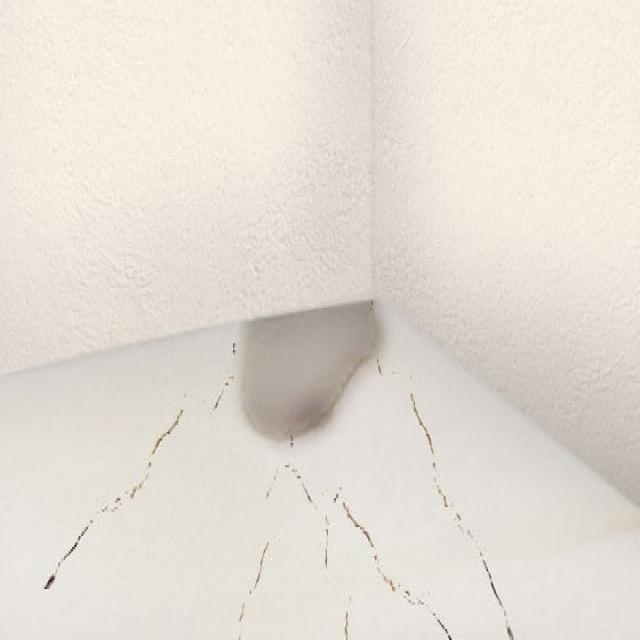Crack: (234, 427, 451, 640), (43, 383, 189, 592), (409, 383, 514, 640), (208, 298, 383, 448)
